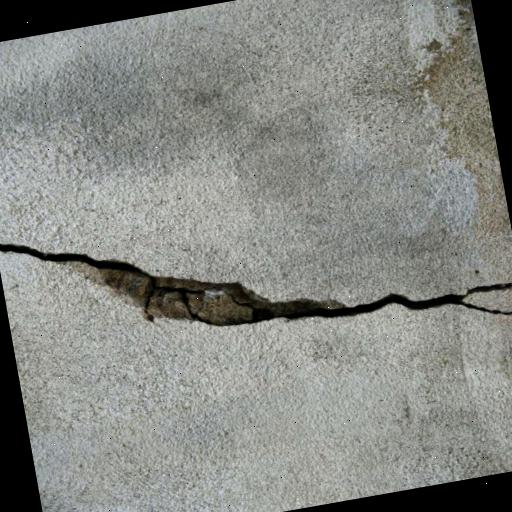spalling: (0, 237, 512, 334)
